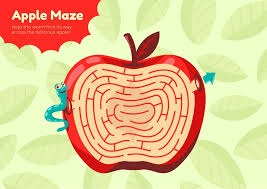maze: (80, 69, 190, 158)
